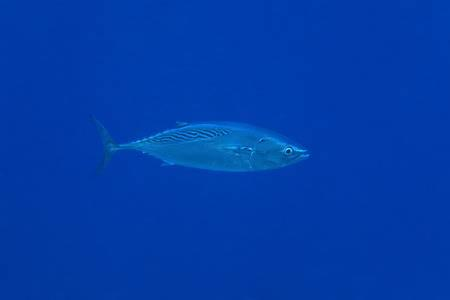Scombridae -Tunas-: (80, 104, 316, 184)
